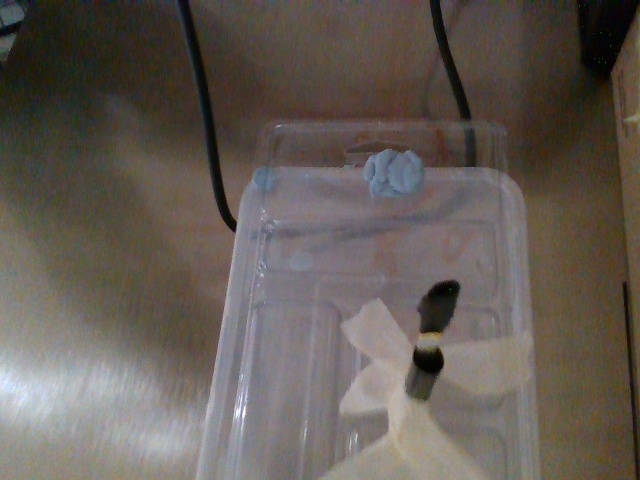test_strip: (413, 277, 460, 350)
